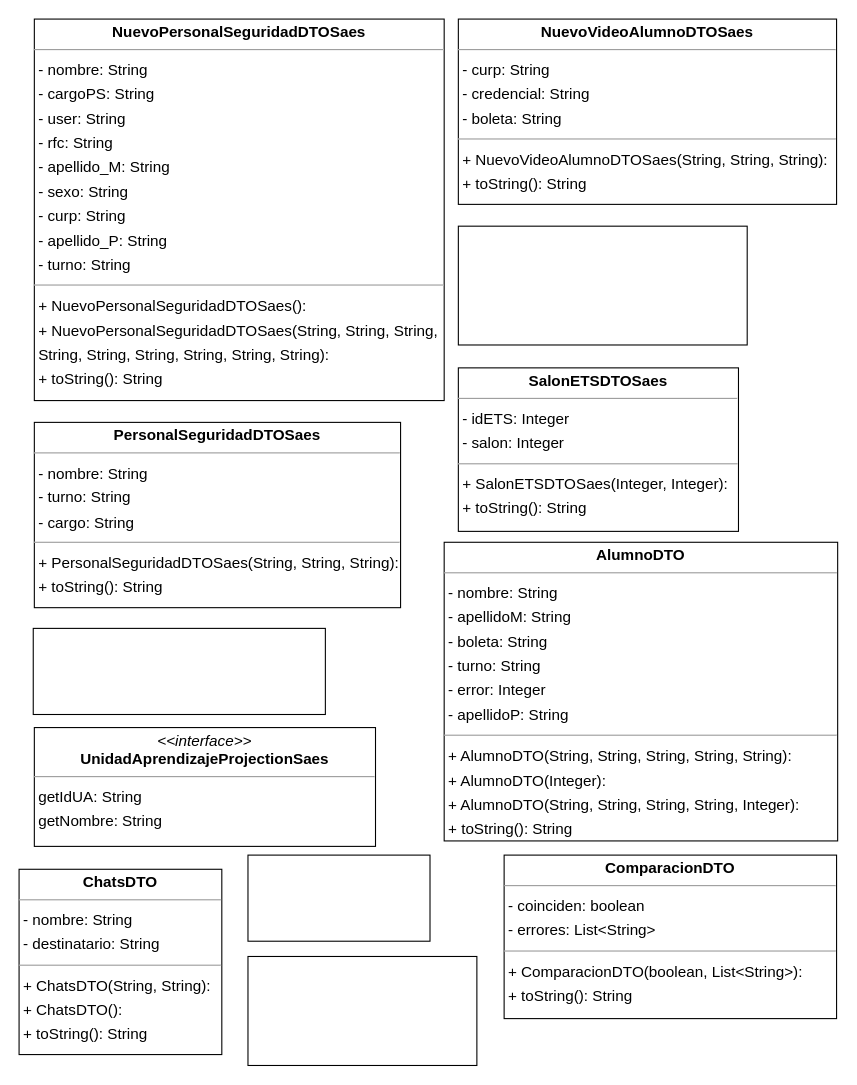
The diagram is 857 pixels wide and 1085 high, and some of its shapes have lost their labels. The shapes that lost their labels are listed below. From the top down, each one's centre as x and y in pixels, then its label:
At pixel 602 285: "<<interface>> PeriodosETSProjectionSaes getPeriodo: String getIdPeriodo: Integer".
At pixel 178 670: "<<interface>> TipoPersonalProjectionSaes getCargo: String".
At pixel 338 897: "<<interface>> SalonProjectionSaes getNumSalon: Integer".
At pixel 362 1010: "CreacionReporteDTO - mensaje: String + CreacionReporteDTO(String):".
